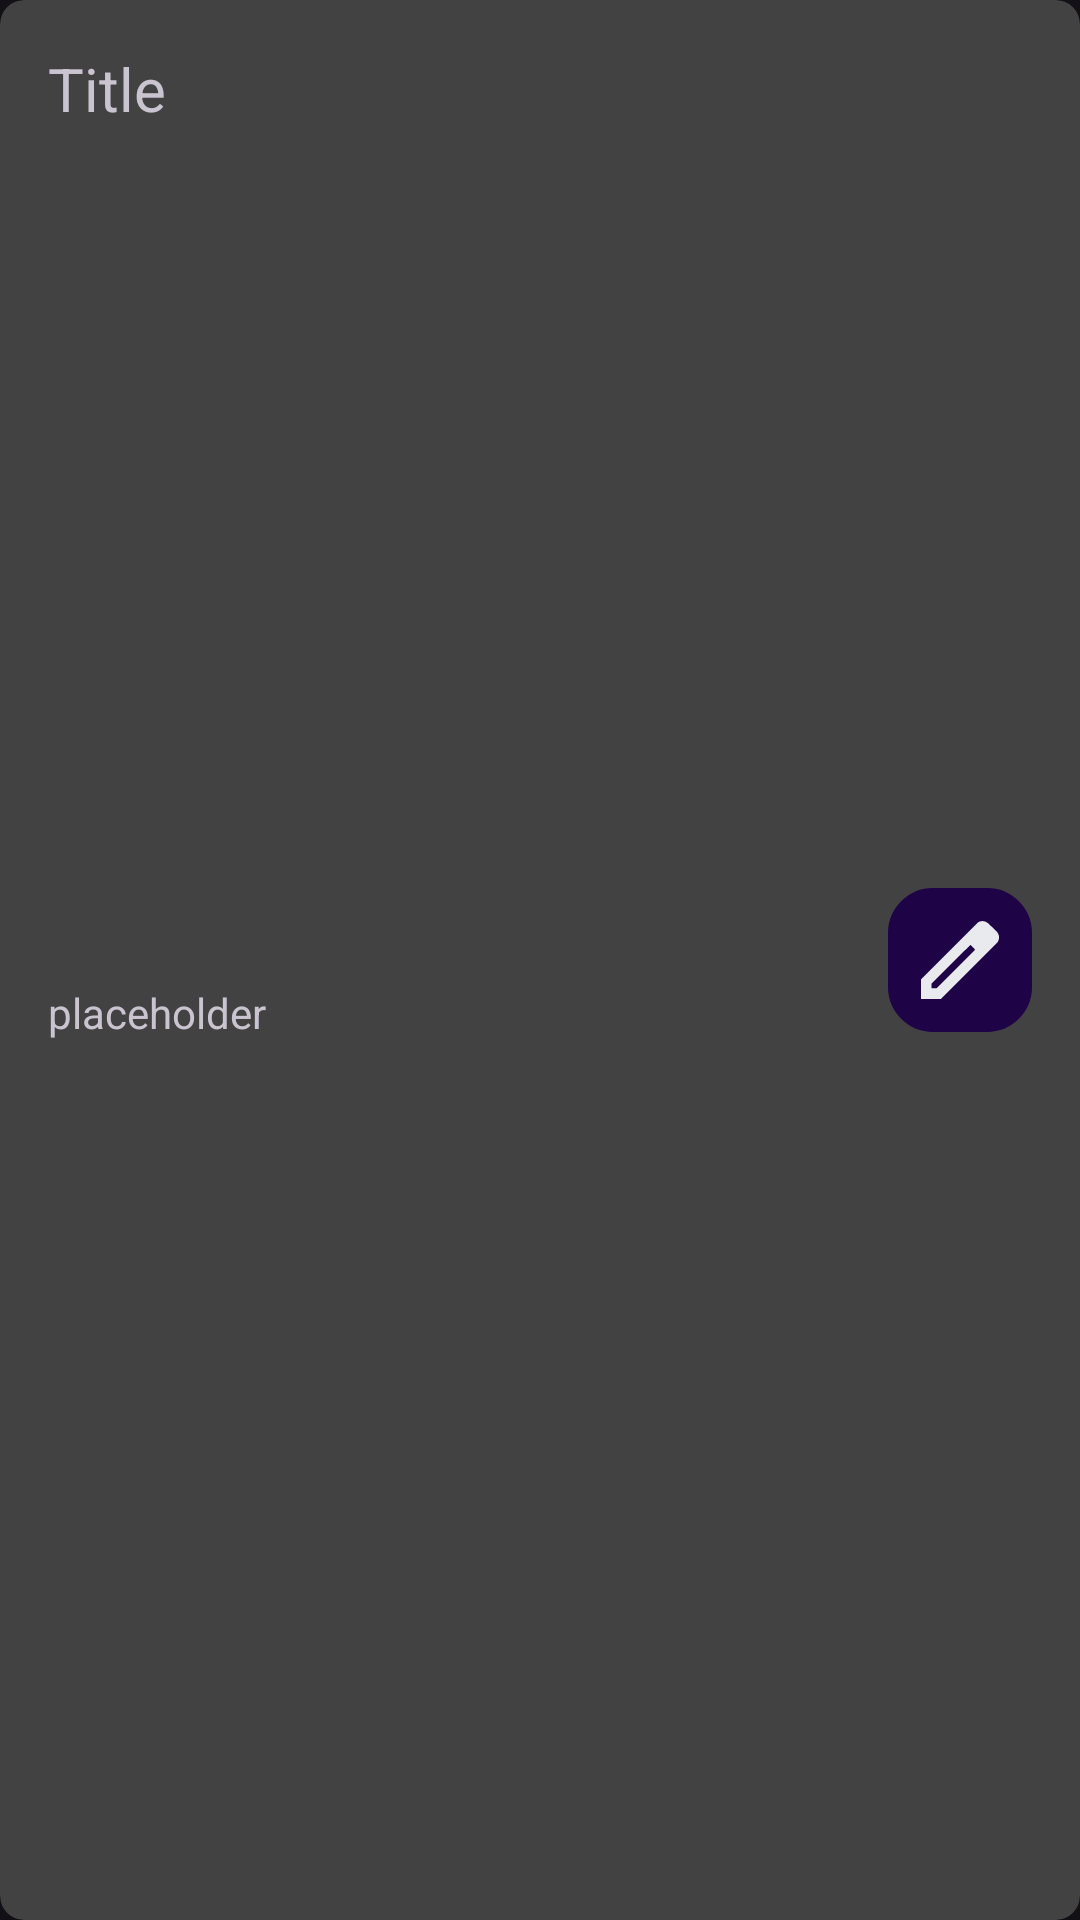

Point at icon controls on the screen. Image size 1080×1920, points as [x,y].
edit: [960,960]
